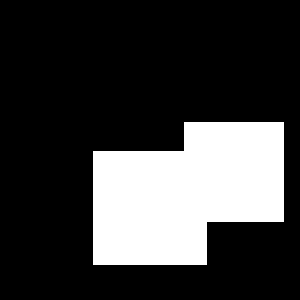circle: (93, 151, 207, 265), (184, 122, 284, 222)
